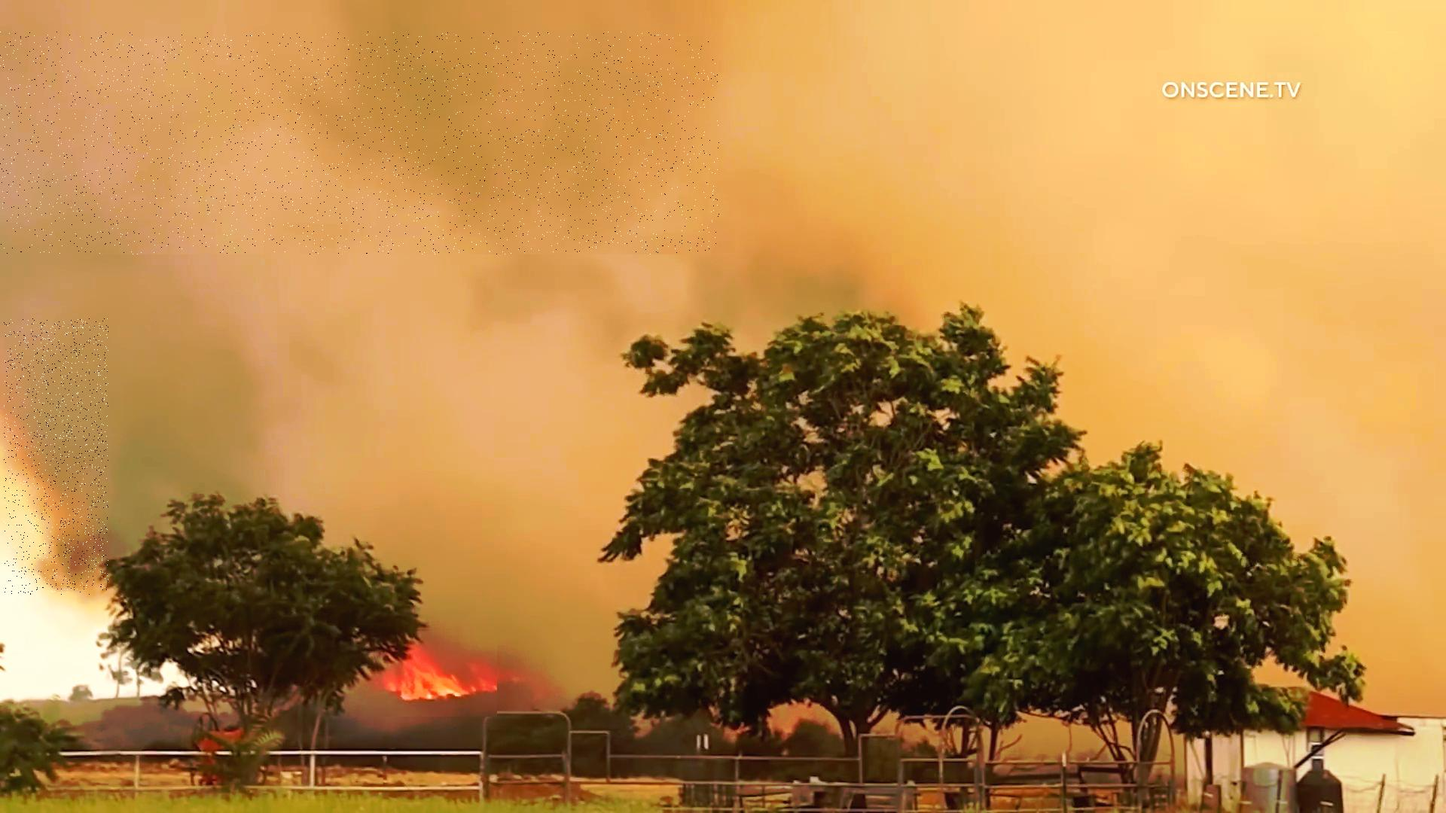fire: (372, 627, 497, 717)
smoke: (0, 32, 719, 254), (4, 319, 109, 595)
